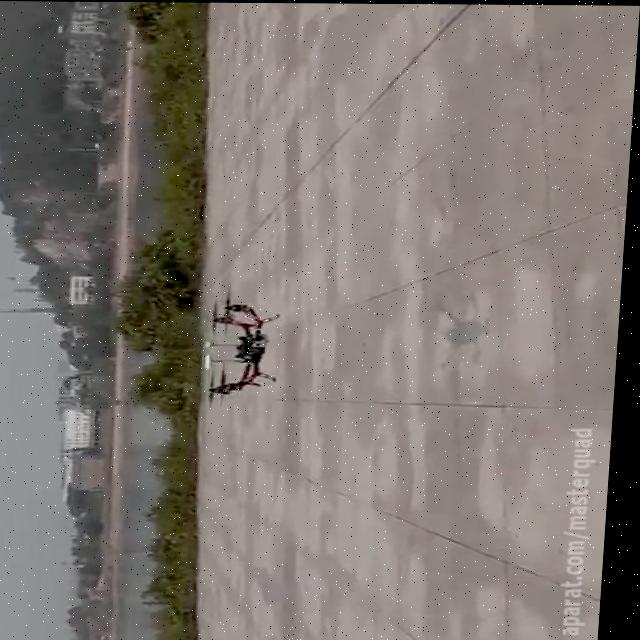drone: (199, 283, 291, 408)
